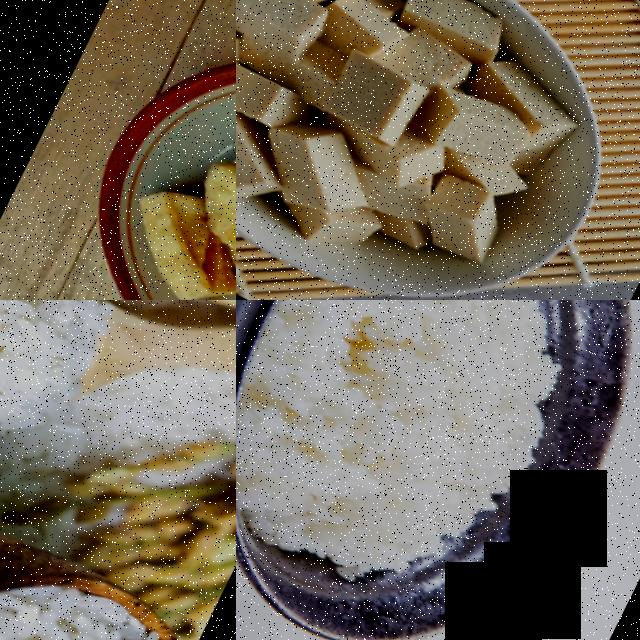tofu: (248, 106, 390, 236), (112, 163, 236, 300), (409, 75, 537, 184), (312, 44, 433, 156), (407, 167, 516, 275), (390, 0, 514, 72), (236, 90, 301, 221), (236, 0, 339, 71), (183, 149, 236, 285)
white rice: (236, 300, 565, 595), (0, 300, 102, 456), (0, 571, 188, 640)
